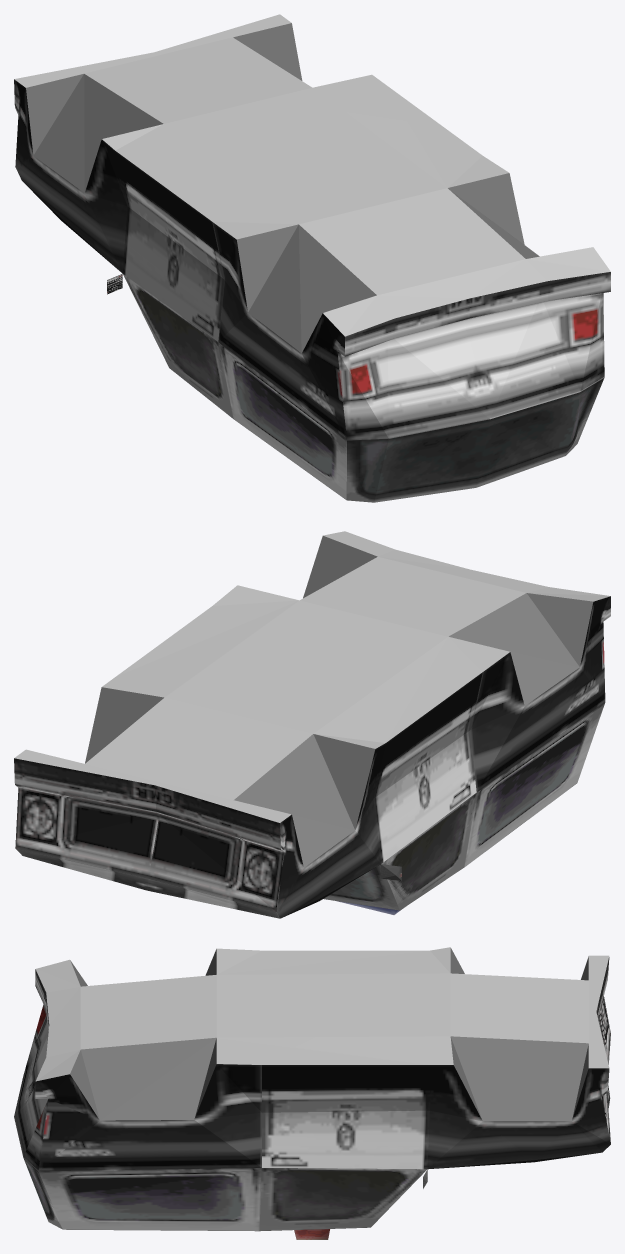
Rendered from VEGAS_model11_damaged.obj.
The picture shows the model from 3 angles, top to bottom: view 1: azimuth 30°, elevation 25°; view 2: azimuth 150°, elevation 25°; view 3: azimuth 270°, elevation 25°; orthographic projection. The views are drawn at different scales.
Parts seen in each view (by area): view 1: VEGAS_model11_damaged_set4_id7_ft, VEGAS_model11_damaged_flat, VEGAS_model11_damaged_set11_id1, VEGAS_model11_damaged_set11_id0, VEGAS_model11_damaged_set11_id17, VEGAS_model11_damaged_set11_id7, VEGAS_model11_damaged_set11_id10, VEGAS_model11_damaged_set11_id6, VEGAS_model11_damaged_set12_id0, VEGAS_model11_damaged_set12_id2; view 2: VEGAS_model11_damaged_set4_id7_ft, VEGAS_model11_damaged_flat, VEGAS_model11_damaged_set11_id16, VEGAS_model11_damaged_set11_id15, VEGAS_model11_damaged_set11_id7, VEGAS_model11_damaged_set11_id10, VEGAS_model11_damaged_set12_id0, VEGAS_model11_damaged_set11_id6, VEGAS_model11_damaged_set12_id2, VEGAS_model11_damaged_set11_id11, VEGAS_model11_damaged_set12_id3; view 3: VEGAS_model11_damaged_set4_id7_ft, VEGAS_model11_damaged_flat, VEGAS_model11_damaged_set11_id7, VEGAS_model11_damaged_set11_id10, VEGAS_model11_damaged_set12_id0, VEGAS_model11_damaged_set11_id6, VEGAS_model11_damaged_set12_id2, VEGAS_model11_damaged_set11_id0, VEGAS_model11_damaged_set11_id1, VEGAS_model11_damaged_set11_id17, VEGAS_model11_damaged_set11_id15.
Part boxes in pixels (left/top/right/bottom): VEGAS_model11_damaged_set4_id7_ft: left=14, top=14, right=610, bottom=336; VEGAS_model11_damaged_flat: left=26, top=23, right=539, bottom=353; VEGAS_model11_damaged_set11_id1: left=337, top=298, right=489, bottom=440; VEGAS_model11_damaged_set11_id0: left=464, top=272, right=610, bottom=419; VEGAS_model11_damaged_set11_id17: left=346, top=377, right=604, bottom=502; VEGAS_model11_damaged_set11_id7: left=115, top=151, right=224, bottom=341; VEGAS_model11_damaged_set11_id10: left=212, top=222, right=346, bottom=439; VEGAS_model11_damaged_set11_id6: left=14, top=79, right=127, bottom=273; VEGAS_model11_damaged_set12_id0: left=218, top=342, right=346, bottom=499; VEGAS_model11_damaged_set12_id2: left=123, top=274, right=233, bottom=418; VEGAS_model11_damaged_set4_id7_ft: left=14, top=531, right=610, bottom=822; VEGAS_model11_damaged_flat: left=85, top=536, right=593, bottom=867; VEGAS_model11_damaged_set11_id16: left=14, top=758, right=159, bottom=878; VEGAS_model11_damaged_set11_id15: left=148, top=785, right=284, bottom=911; VEGAS_model11_damaged_set11_id7: left=373, top=672, right=482, bottom=863; VEGAS_model11_damaged_set11_id10: left=470, top=596, right=610, bottom=791; VEGAS_model11_damaged_set12_id0: left=464, top=703, right=604, bottom=867; VEGAS_model11_damaged_set11_id6: left=277, top=743, right=385, bottom=918; VEGAS_model11_damaged_set12_id2: left=381, top=793, right=476, bottom=910; VEGAS_model11_damaged_set11_id11: left=16, top=848, right=279, bottom=918; VEGAS_model11_damaged_set12_id3: left=323, top=864, right=399, bottom=910; VEGAS_model11_damaged_set4_id7_ft: left=35, top=947, right=609, bottom=1081; VEGAS_model11_damaged_flat: left=70, top=948, right=588, bottom=1121; VEGAS_model11_damaged_set11_id7: left=262, top=1065, right=429, bottom=1169; VEGAS_model11_damaged_set11_id10: left=35, top=1064, right=261, bottom=1171; VEGAS_model11_damaged_set12_id0: left=38, top=1168, right=261, bottom=1231; VEGAS_model11_damaged_set11_id6: left=427, top=1065, right=610, bottom=1169; VEGAS_model11_damaged_set12_id2: left=259, top=1168, right=426, bottom=1231; VEGAS_model11_damaged_set11_id0: left=14, top=1084, right=48, bottom=1170; VEGAS_model11_damaged_set11_id1: left=14, top=969, right=49, bottom=1116; VEGAS_model11_damaged_set11_id17: left=23, top=1158, right=62, bottom=1229; VEGAS_model11_damaged_set11_id15: left=596, top=957, right=610, bottom=1064.
Bounding box in the file's own units: 384 × 287 × 778.
17 materials, 15 textured.
